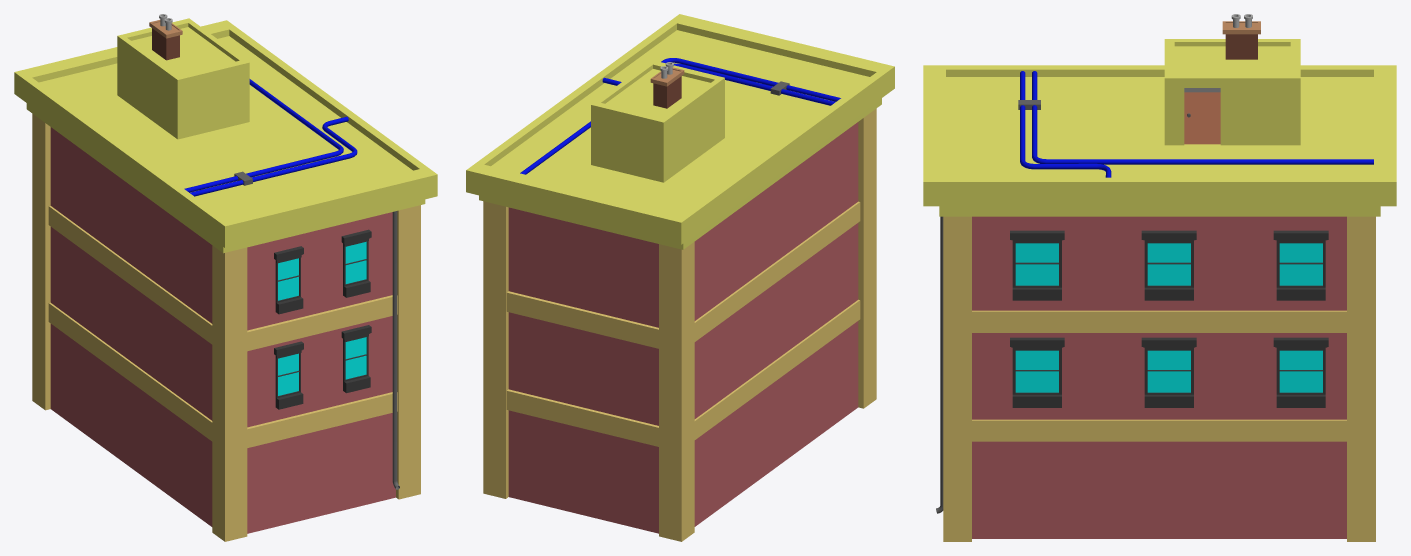
File: building_04.fbx
The picture shows the model from 3 angles, left to right: view 1: azimuth 30°, elevation 25°; view 2: azimuth 150°, elevation 25°; view 3: azimuth 270°, elevation 25°; orthographic projection. The views are drawn at different scales.
Parts seen in each view (by area): view 1: Vert.017; view 2: Vert.017; view 3: Vert.017.
Boxes of the visible parts, left/top/right/bottom form: Vert.017: left=14, top=14, right=437, bottom=541; Vert.017: left=466, top=14, right=894, bottom=541; Vert.017: left=923, top=14, right=1396, bottom=541.
Bounding box in the file's own units: 999 × 1834 × 1715.
